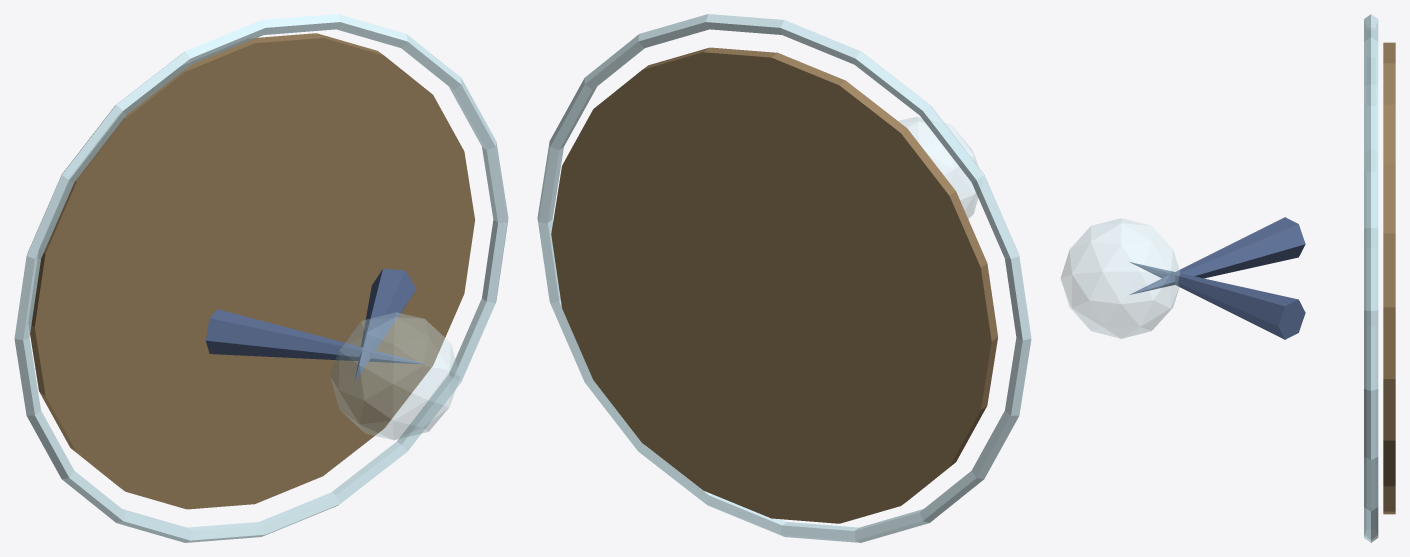
File: 07_weather_terrain_nature_effect.glb
The picture shows the model from 3 angles, left to right: view 1: azimuth 30°, elevation 25°; view 2: azimuth 150°, elevation 25°; view 3: azimuth 270°, elevation 25°; orthographic projection. The views are drawn at different scales.
Visible parts, largest first — view 1: terrain_patch, weather_boundary, weather_orb, root_spike_l, root_spike_r; view 2: terrain_patch, weather_boundary, weather_orb; view 3: weather_orb, weather_boundary, terrain_patch, root_spike_r, root_spike_l.
Part boxes in pixels (bbox=[...]): terrain_patch: bbox=[29, 33, 474, 509]; weather_boundary: bbox=[14, 14, 508, 542]; weather_orb: bbox=[330, 312, 459, 439]; root_spike_l: bbox=[205, 309, 425, 364]; root_spike_r: bbox=[354, 268, 416, 381]; terrain_patch: bbox=[551, 47, 997, 523]; weather_boundary: bbox=[537, 14, 1031, 542]; weather_orb: bbox=[898, 117, 978, 218]; weather_orb: bbox=[1060, 218, 1180, 338]; weather_boundary: bbox=[1364, 14, 1378, 542]; terrain_patch: bbox=[1383, 42, 1395, 514]; root_spike_r: bbox=[1130, 262, 1305, 339]; root_spike_l: bbox=[1130, 217, 1305, 294].
Bounding box in the file's own units: 1.75 × 1.75 × 1.1.
